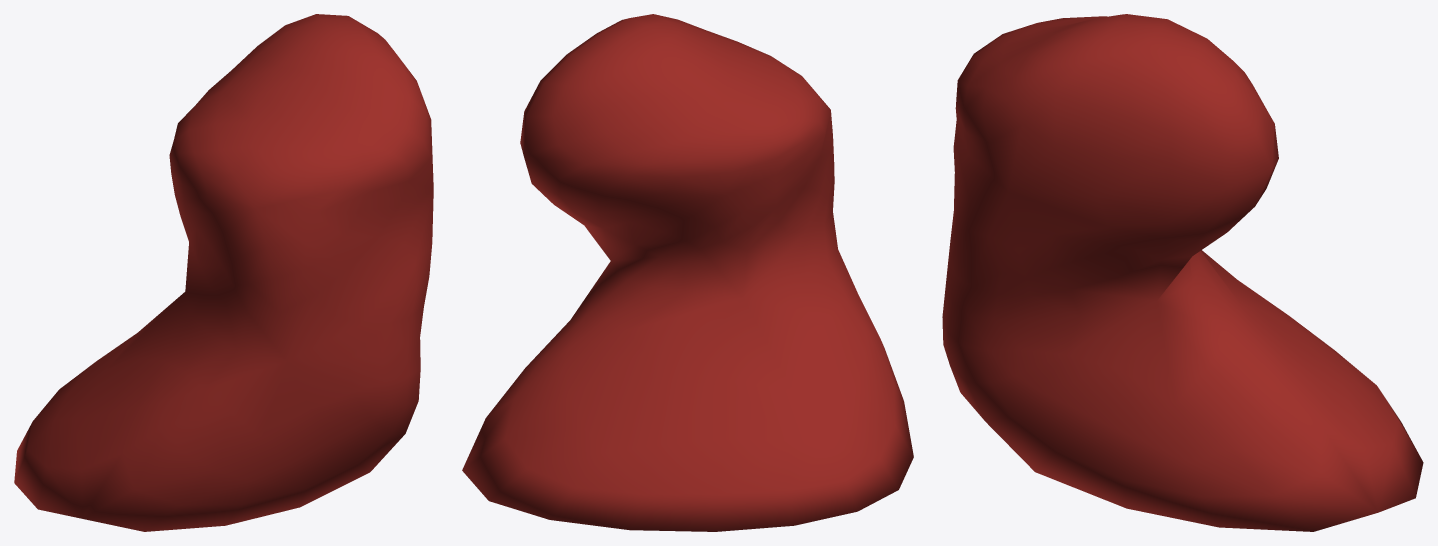
Rendered from Organic_Blob_007.fbx.
3 renders of one model, left to right at view 1: azimuth 30°, elevation 25°; view 2: azimuth 150°, elevation 25°; view 3: azimuth 270°, elevation 25°, orthographic. The views are drawn at different scales.
Visible parts, largest first — view 1: Cube; view 2: Cube; view 3: Cube.
Part boxes in pixels (x1,y1,x2,y2): Cube: (14,14,433,531); Cube: (462,14,913,531); Cube: (942,14,1423,531).
Size of the model in its own units: 468 by 502 by 470.
